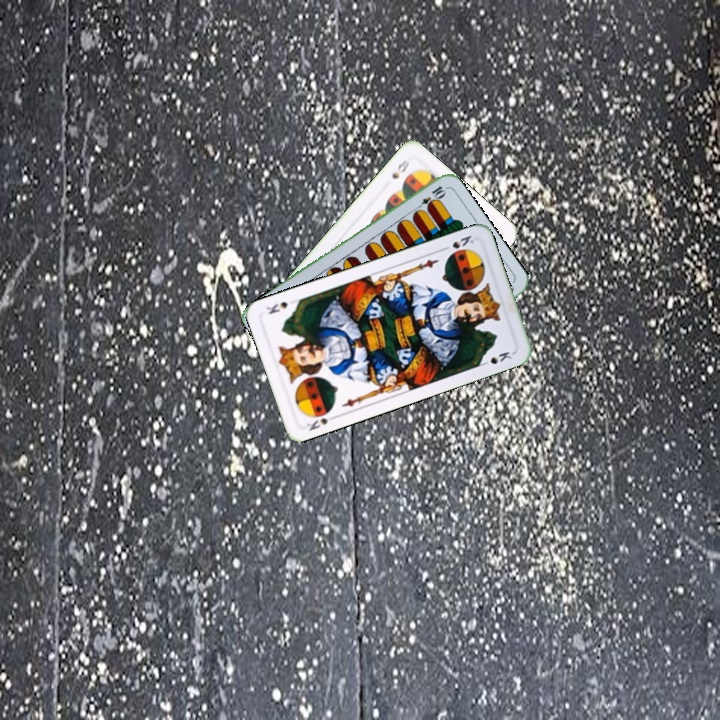E10: (412, 182, 448, 213)
S8: (387, 156, 411, 181)
SK: (438, 231, 476, 257), (303, 411, 339, 433)
